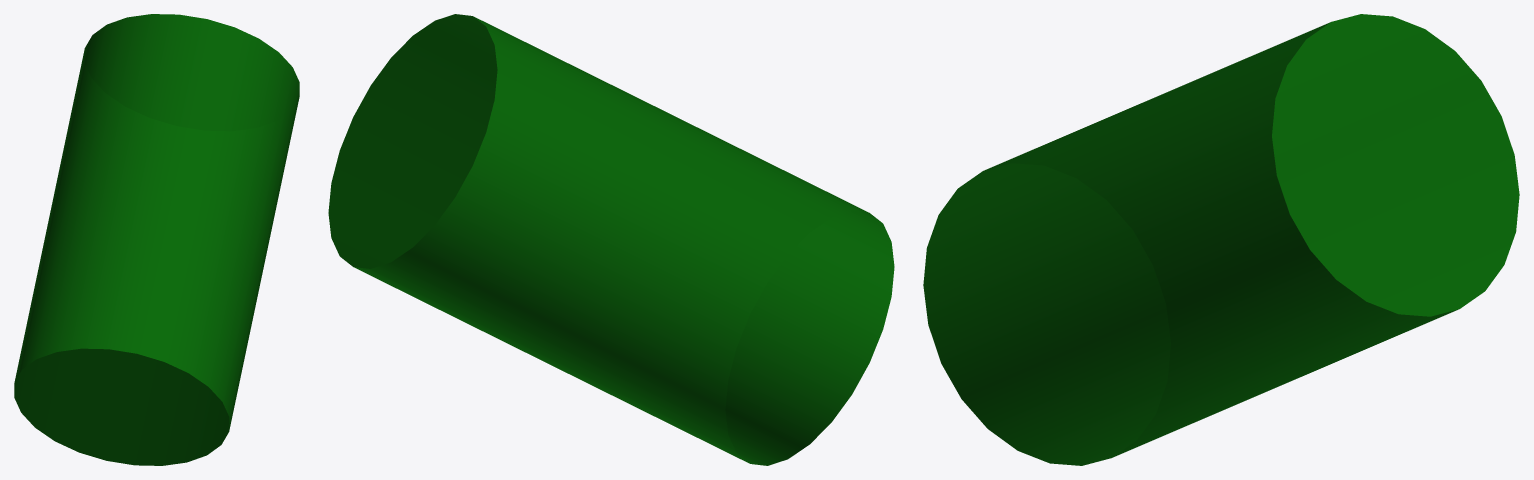
The model's file is Event_127732675_jet_5.fbx.
3 views of the same model, side by side, from view 1: azimuth 30°, elevation 25°; view 2: azimuth 150°, elevation 25°; view 3: azimuth 270°, elevation 25° (orthographic). The views are drawn at different scales.
Visible parts, largest first — view 1: Model; view 2: Model; view 3: Model.
Boxes of the visible parts, bbox=[...] form: Model: bbox=[14, 14, 299, 465]; Model: bbox=[328, 14, 894, 465]; Model: bbox=[923, 14, 1519, 465].
Size of the model in its own units: 0.0734 by 0.0731 by 0.0758.
